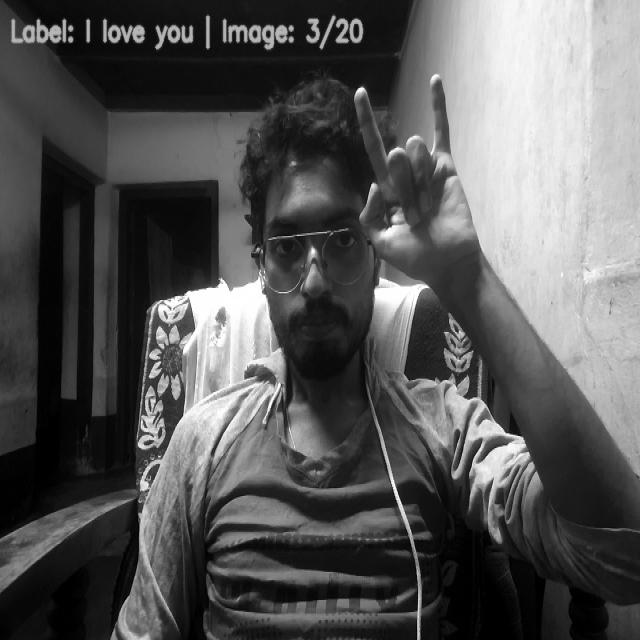I love you: (350, 73, 474, 273)
